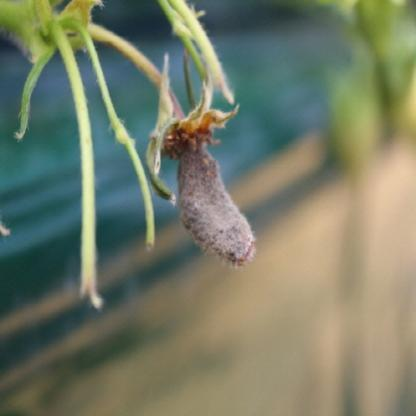Strawberry_Gray_Mold: (161, 84, 256, 267)
